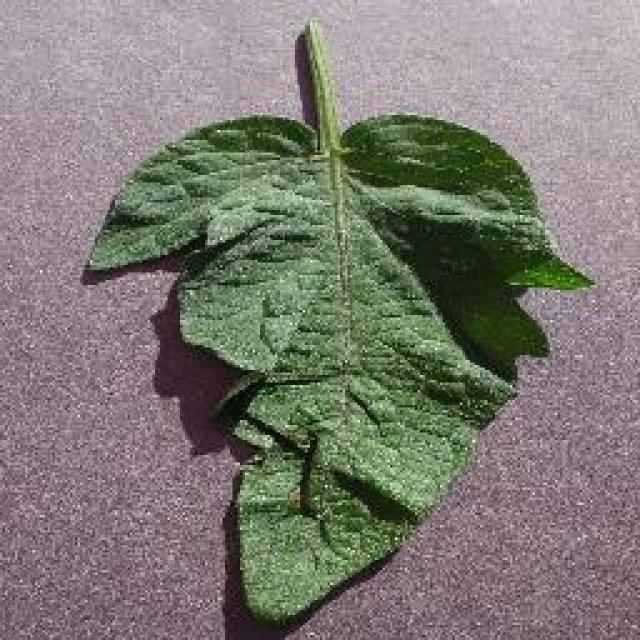Tomato___Target_Spot: (88, 22, 590, 622)
